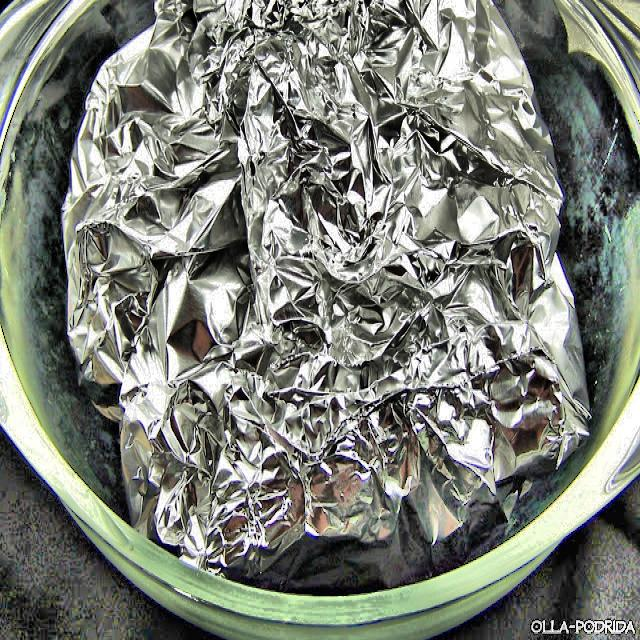Foil: (47, 0, 594, 588)
